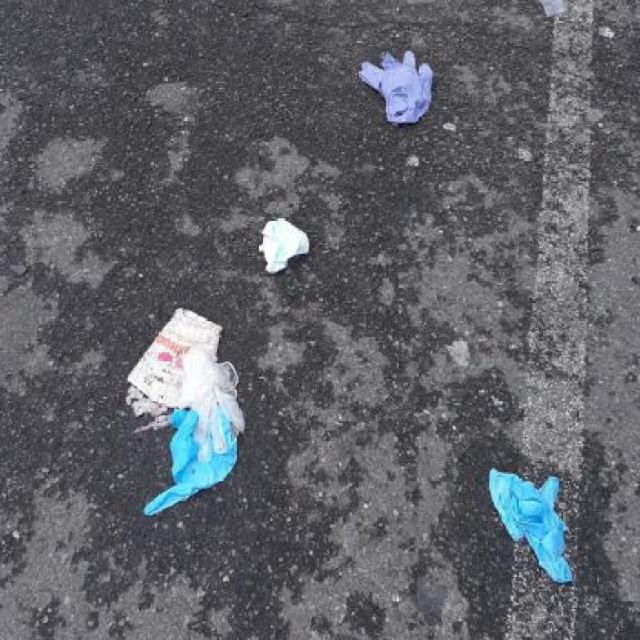gloved_hand: (130, 345, 262, 533), (471, 442, 587, 598), (338, 35, 442, 148), (243, 196, 329, 322)
